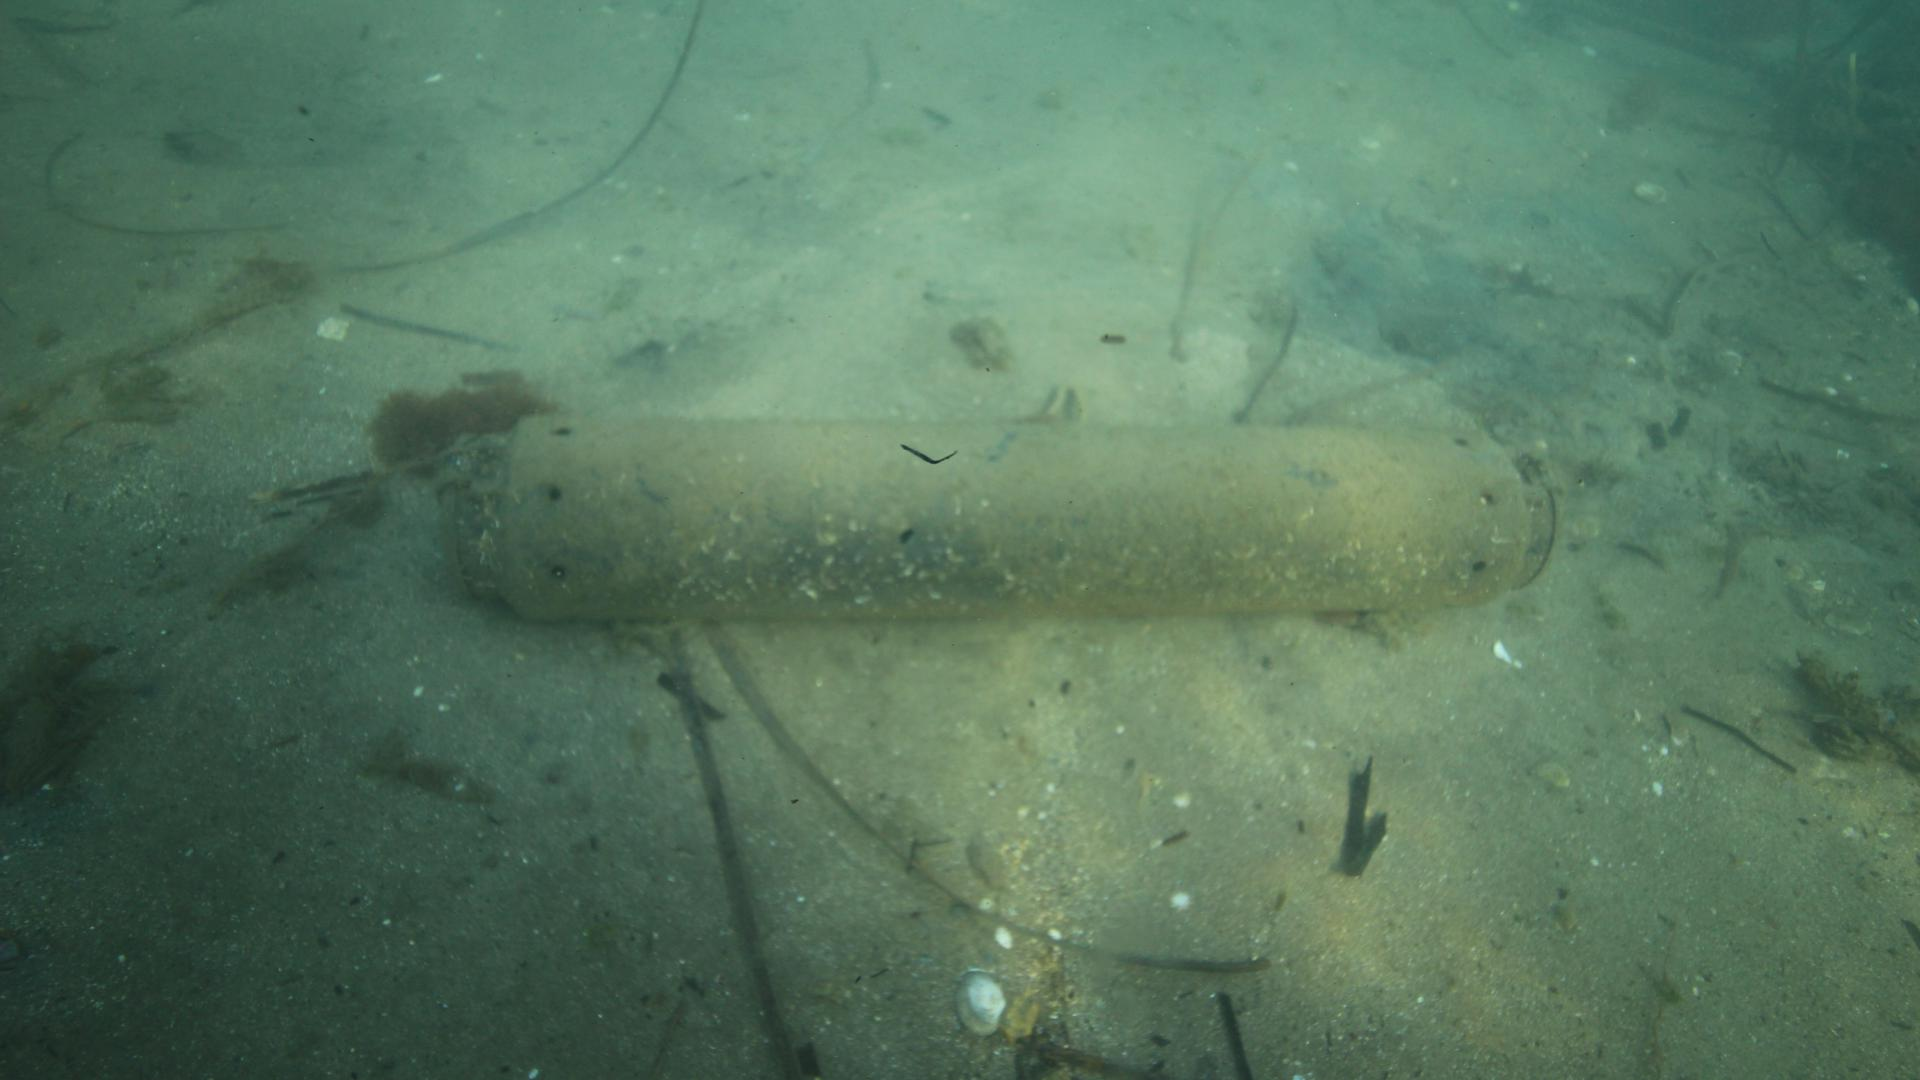eel fish trap: (438, 410, 1563, 625)
